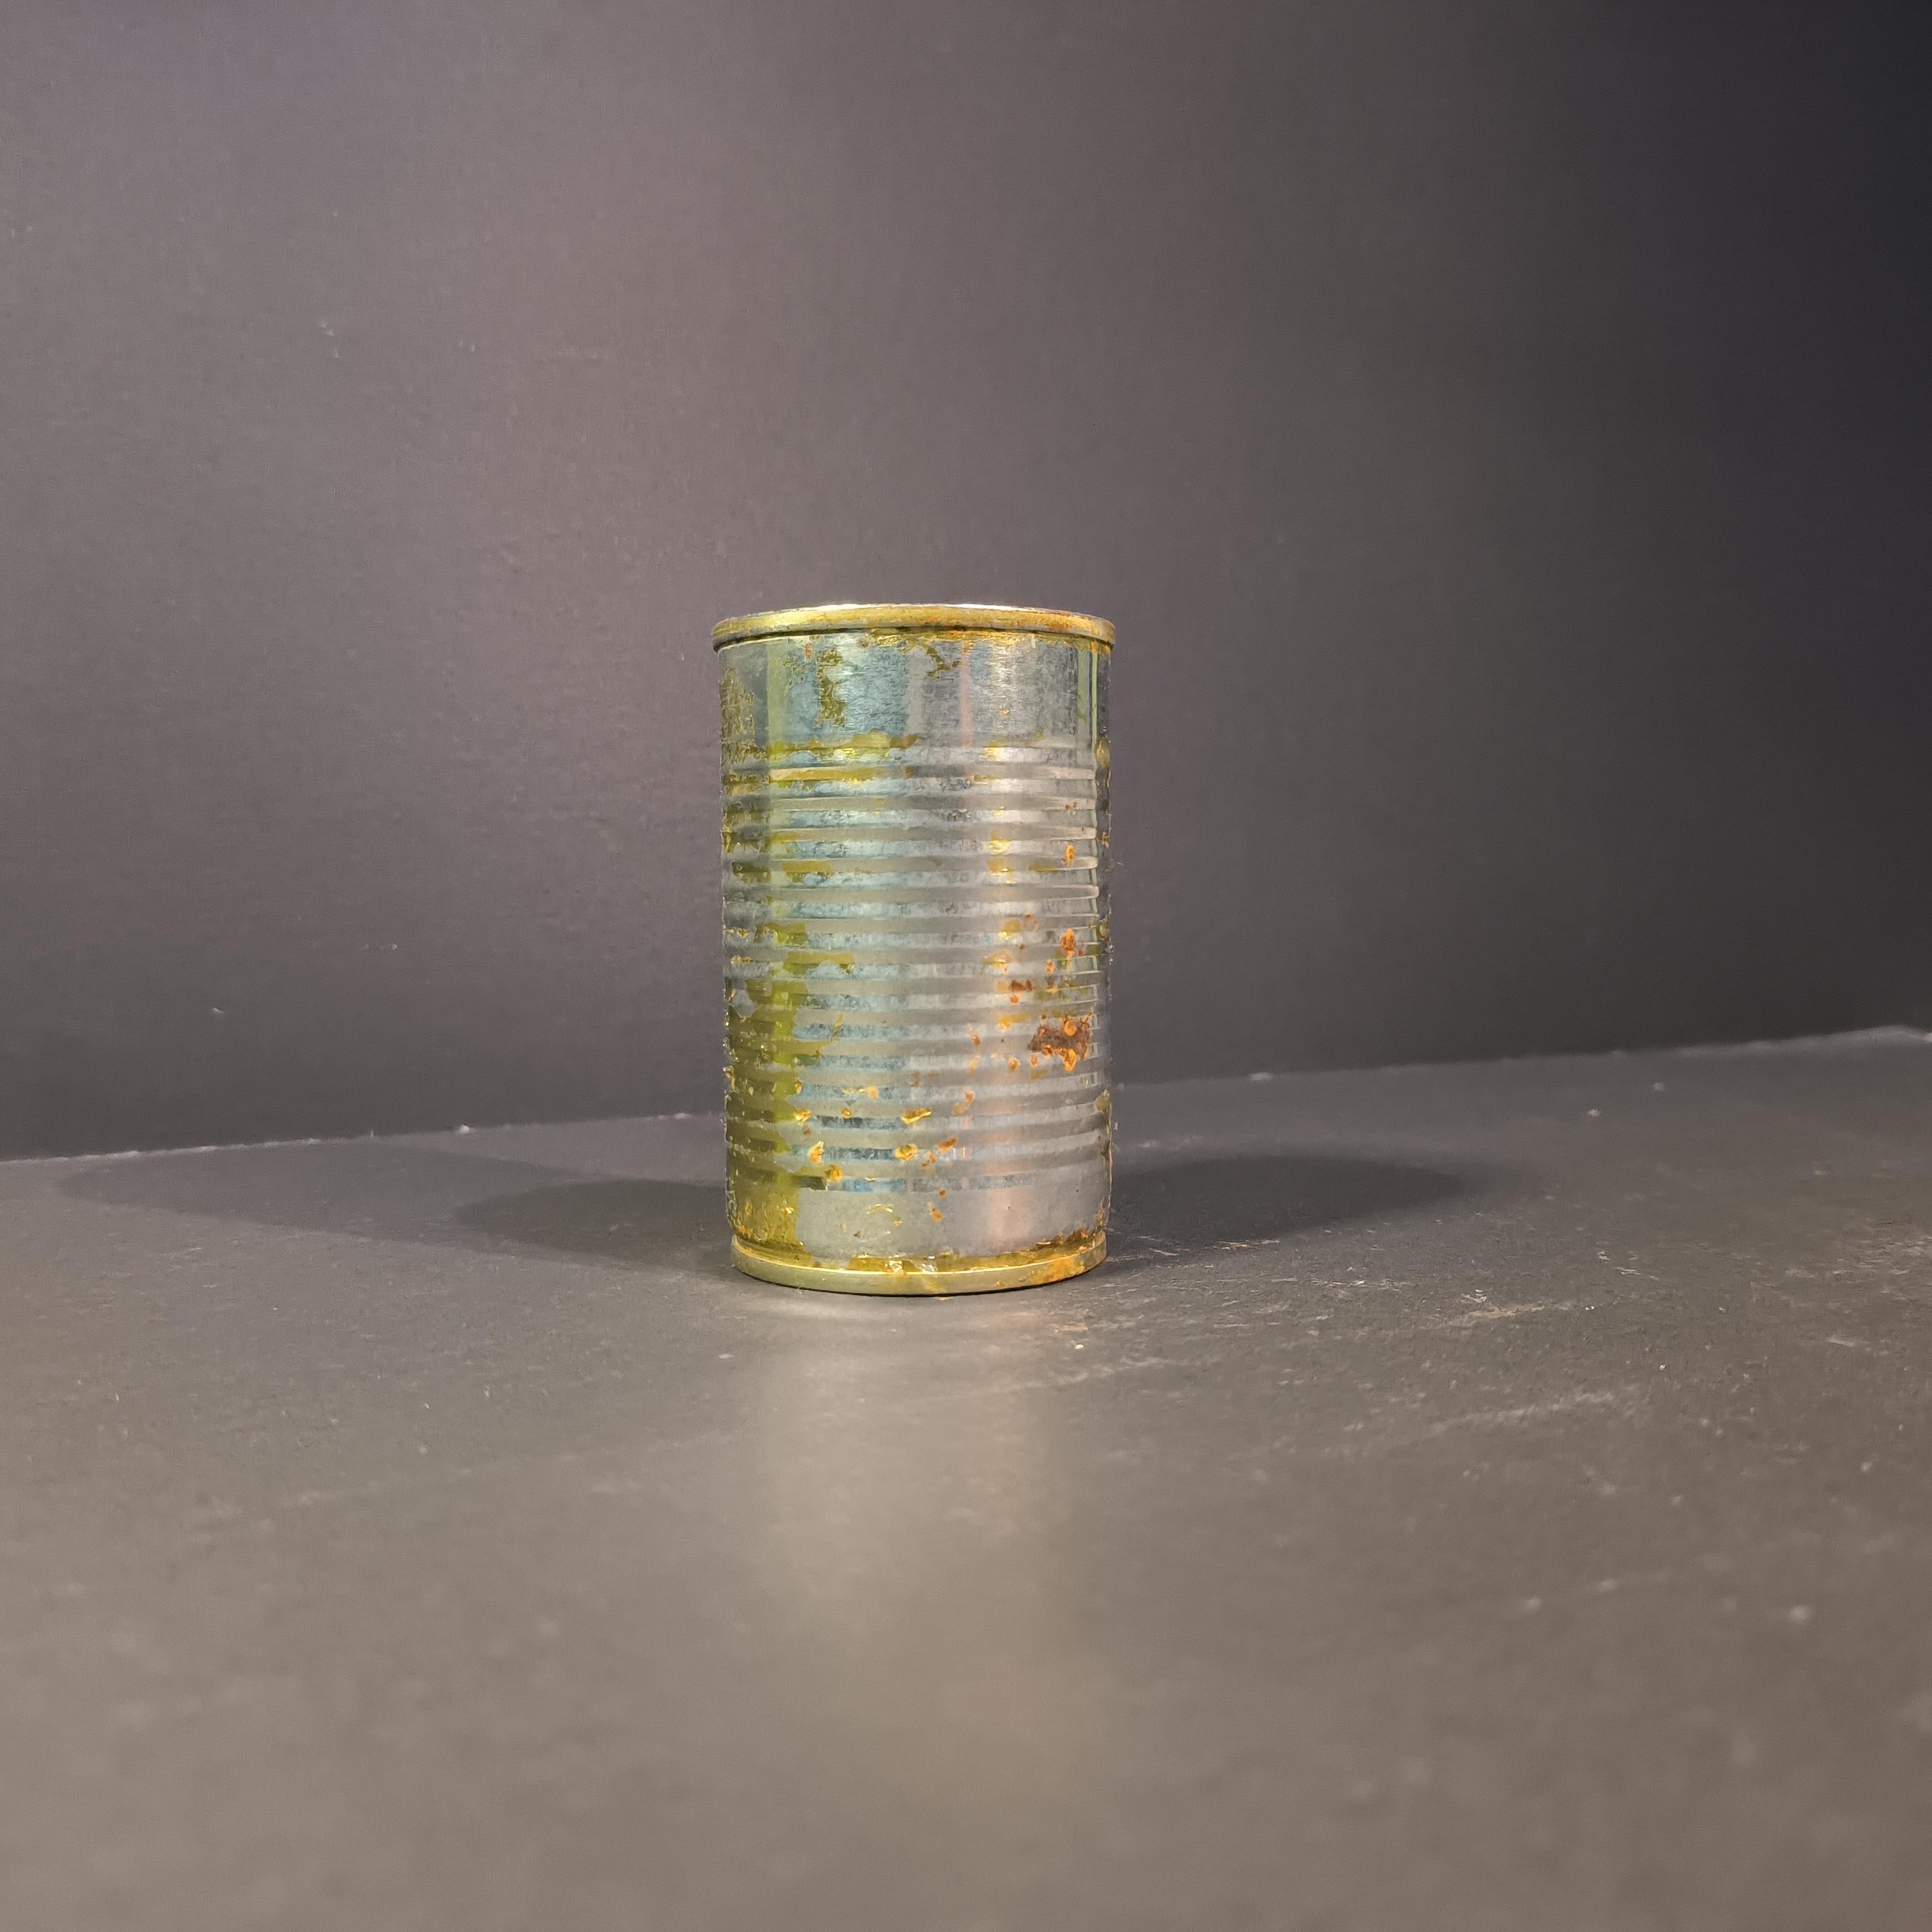Rusted: (704, 593, 1138, 1307)
